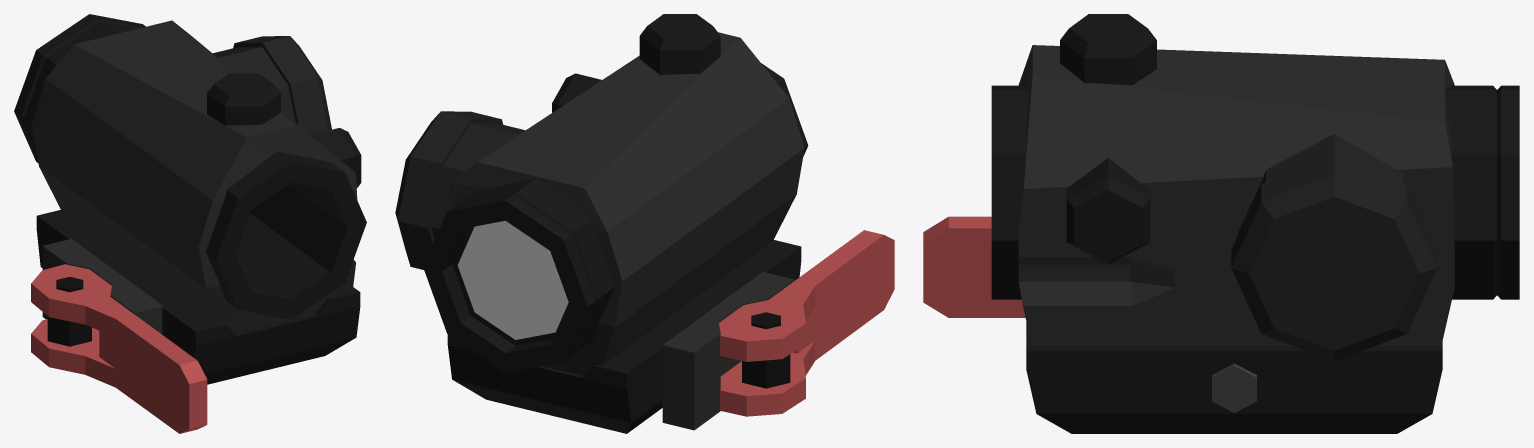
Rendered from optoc_1t.fbx.
3 renders of one model, left to right at view 1: azimuth 30°, elevation 25°; view 2: azimuth 150°, elevation 25°; view 3: azimuth 270°, elevation 25°, orthographic. The views are drawn at different scales.
Visible parts, largest first — view 1: optic_t1; view 2: optic_t1; view 3: optic_t1.
Boxes of the visible parts, x1,y1,x2,y2 form: optic_t1: (14,14,366,433); optic_t1: (395,14,894,433); optic_t1: (923,14,1519,433).
Size of the model in its own units: 1.76 by 1.57 by 2.35.
